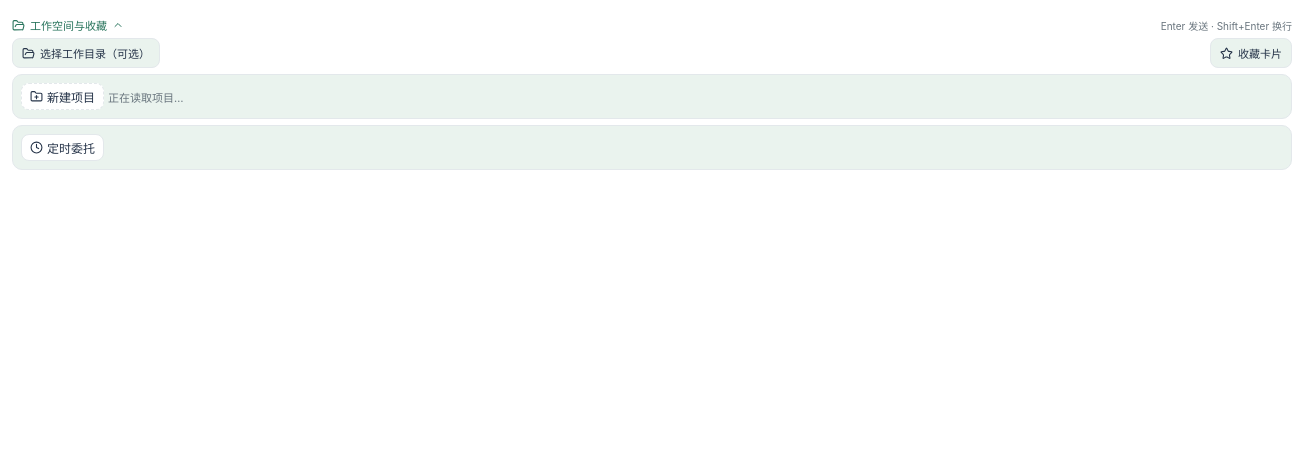
Test: 定时委托（doc 18 §9） › lists pending delegations and cancels one from the same menu
Step 1. Click the button "定时委托" → click(62, 148), box [21,134,104,161]
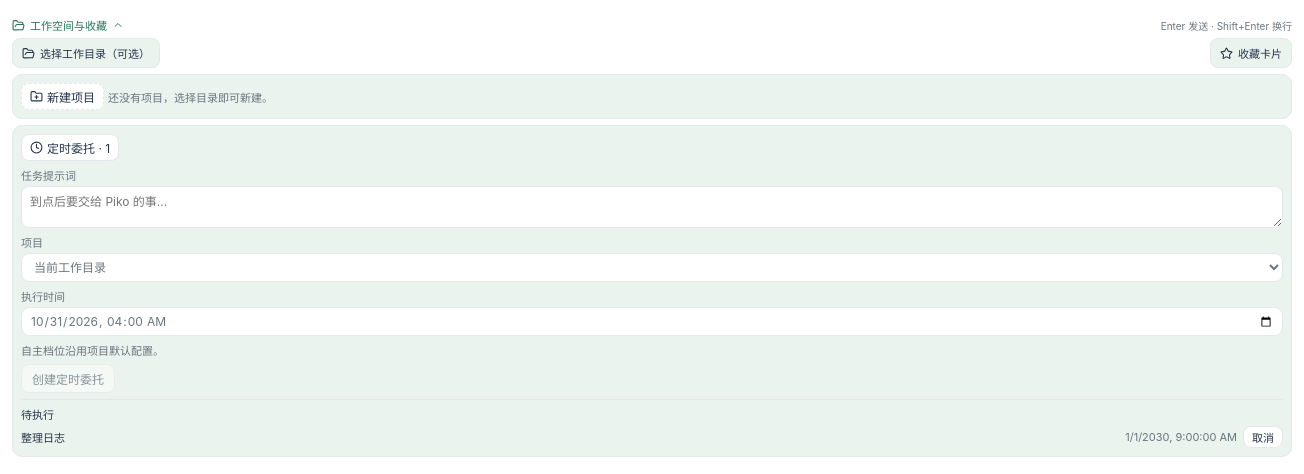
expect the text "整理日志" is shown: met, box [21,431,65,445]
Step 2. Click the button with aria-label "取消：整理日志" → click(1263, 437), box [1243,426,1283,448]
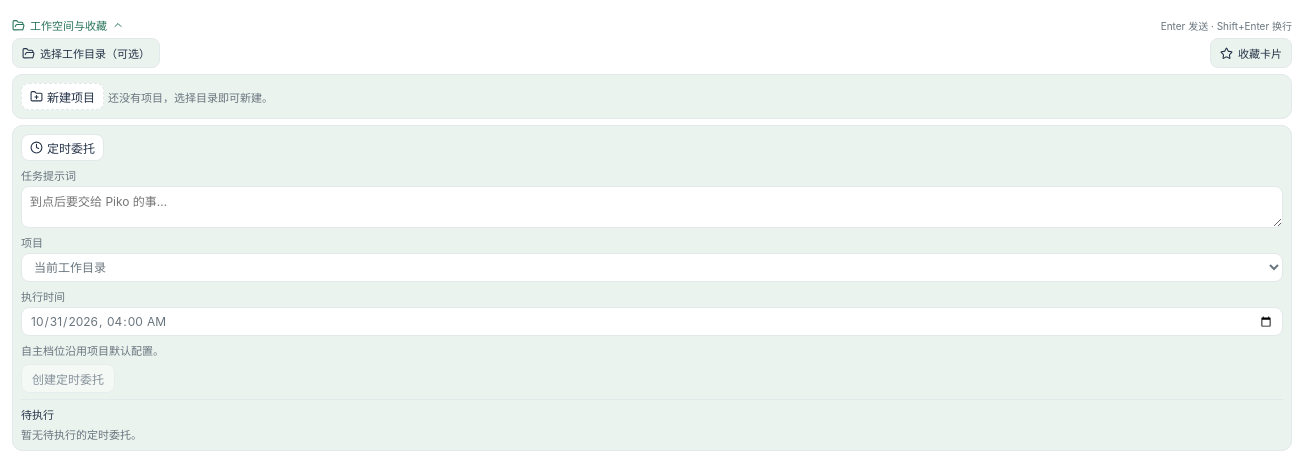
expect the text "暂无待执行的定时委托。" is shown: met, box [21,428,142,442]
